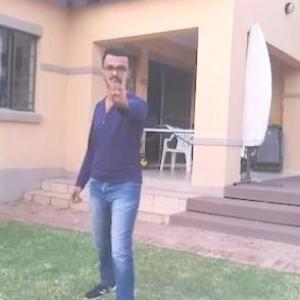takeoff-hand: (101, 66, 134, 113)
